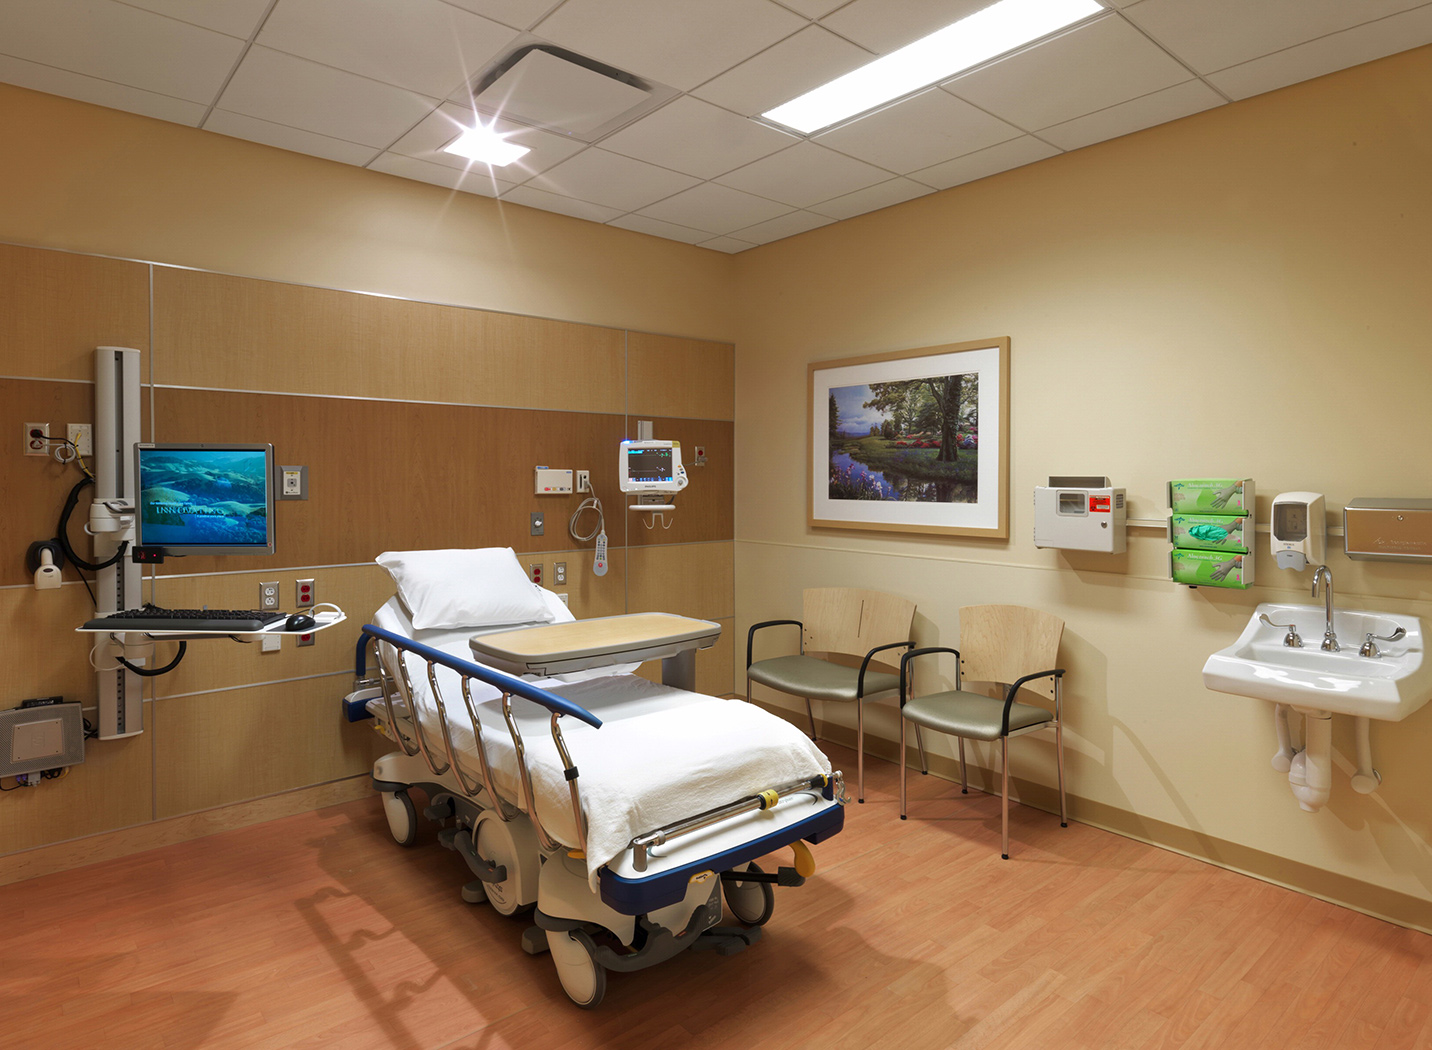bedrail: (344, 625, 603, 866)
bedside_monitor: (619, 440, 689, 497)
chair: (899, 606, 1070, 858), (746, 590, 927, 804)
computer: (132, 442, 275, 557)
dispenser: (1267, 483, 1327, 574), (1163, 556, 1249, 604), (1163, 512, 1249, 559), (1165, 468, 1250, 516)
faucet: (1257, 565, 1409, 658)
hospital_bed: (342, 547, 847, 1007)
keyboard: (79, 606, 286, 630)
medical_waste_container: (1030, 478, 1130, 559)
mouse: (285, 614, 316, 630)
overbed_table: (468, 612, 722, 694)
sink: (1202, 602, 1432, 814)
